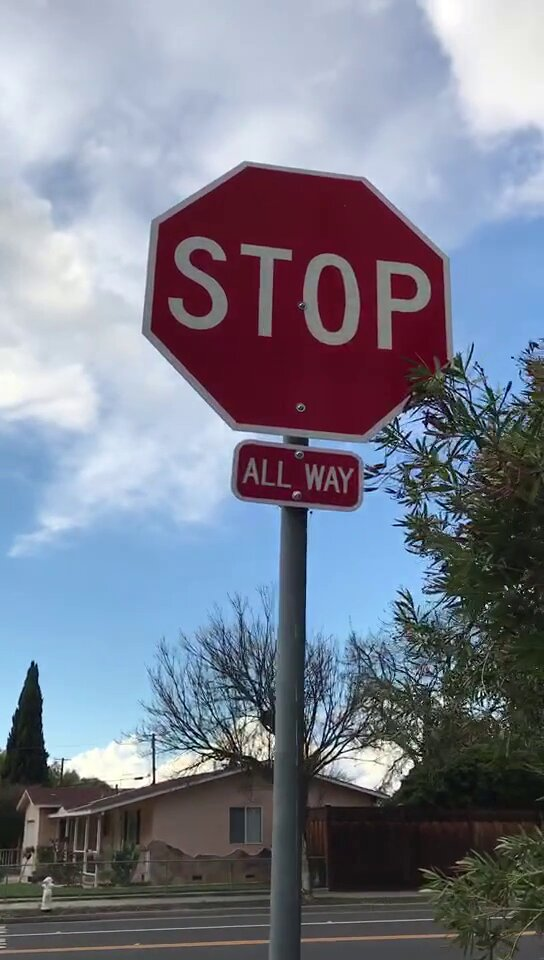stop_sign: (142, 162, 453, 440)
